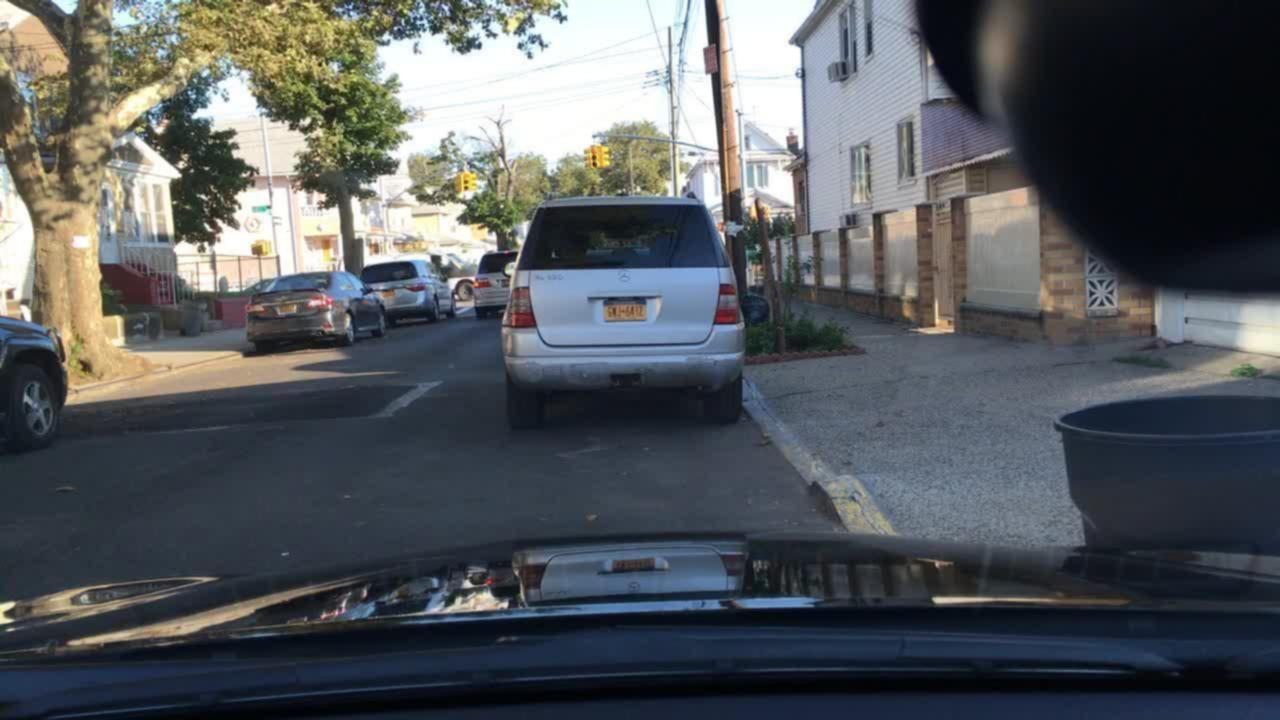Mercedes: (611, 266, 636, 286)
